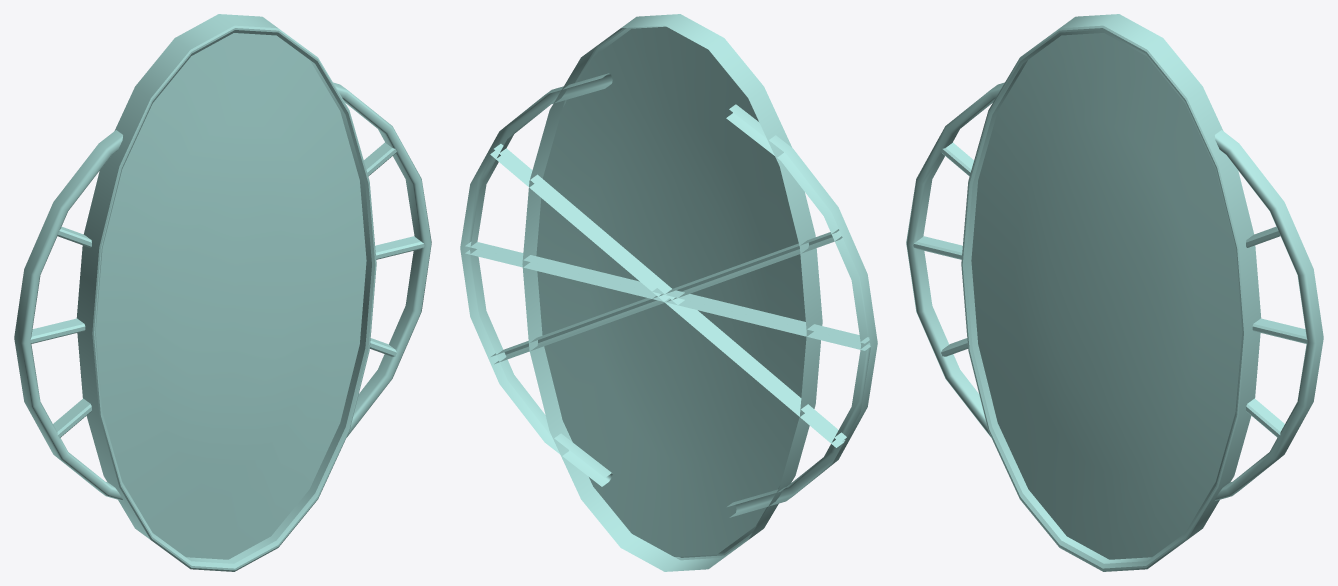
The model's file is Small_WallMirror.fbx.
The picture shows the model from 3 angles, left to right: view 1: azimuth 30°, elevation 25°; view 2: azimuth 150°, elevation 25°; view 3: azimuth 330°, elevation 25°; orthographic projection.
Visible parts, largest first — view 1: polySurface102; view 2: polySurface102; view 3: polySurface102.
Part boxes in pixels (box(x1,y1,x2,y2)): polySurface102: box(14, 14, 431, 571); polySurface102: box(460, 14, 877, 571); polySurface102: box(906, 14, 1323, 571).
Size of the model in its own units: 0.6645 by 0.8448 by 0.0462.
